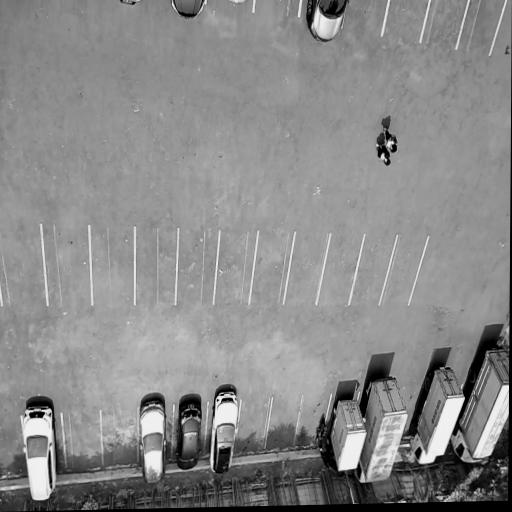Car: (445, 340, 509, 469), (354, 372, 410, 489), (404, 362, 465, 468), (319, 391, 369, 480), (20, 398, 59, 506), (205, 384, 240, 489), (172, 391, 206, 490), (138, 393, 170, 495), (302, 0, 349, 49), (167, 0, 207, 26), (113, 0, 145, 16), (216, 0, 254, 8)
Space Available: (41, 226, 92, 308), (0, 228, 47, 306), (92, 227, 134, 311), (317, 234, 365, 307), (135, 228, 178, 306), (350, 234, 396, 306), (176, 230, 219, 307), (249, 232, 294, 305), (381, 236, 428, 305), (214, 235, 258, 306), (285, 234, 329, 305), (457, 0, 506, 57), (61, 411, 102, 475), (263, 397, 302, 459), (421, 0, 469, 49), (235, 400, 273, 459), (100, 411, 138, 469), (382, 0, 430, 42), (0, 417, 28, 483), (342, 0, 390, 37), (254, 0, 300, 15)
